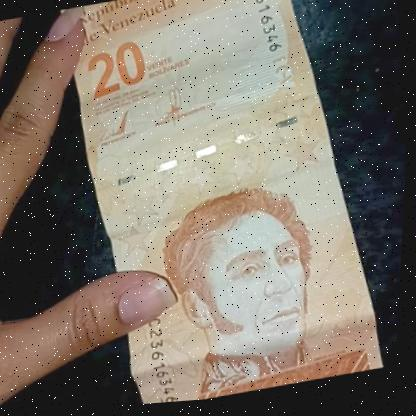twenty-front-vef: (58, 0, 416, 412)
